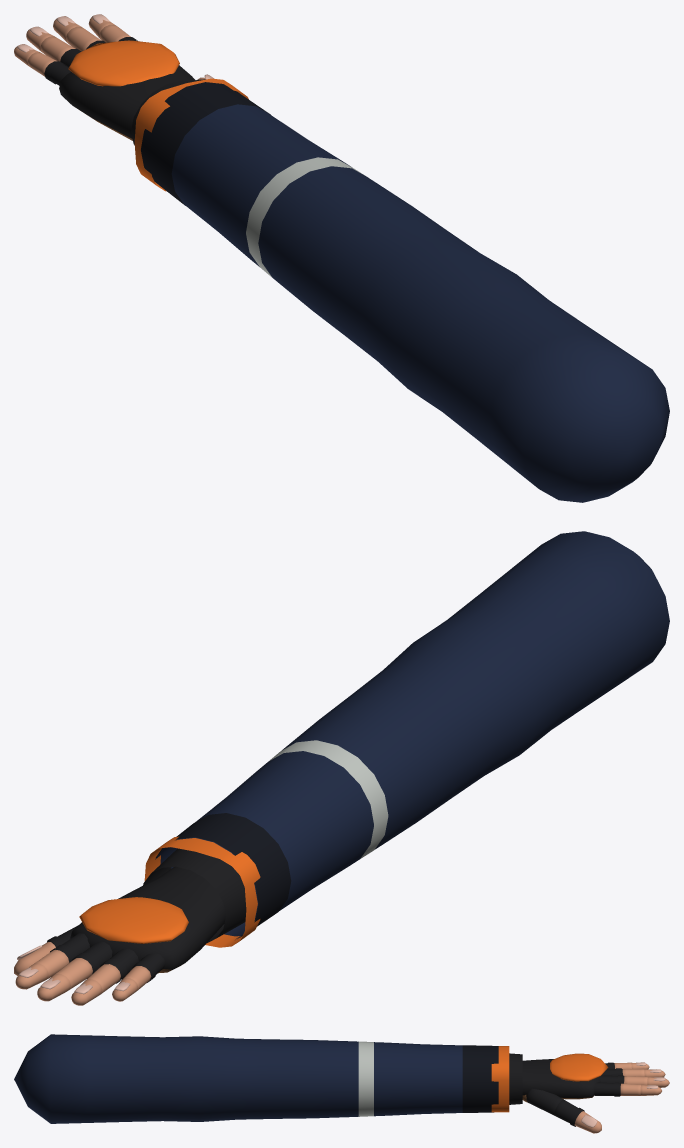
The model's file is FP_Hand_L.glb.
3 renders of one model, top to bottom at view 1: azimuth 30°, elevation 25°; view 2: azimuth 150°, elevation 25°; view 3: azimuth 270°, elevation 25°, orthographic. The views are drawn at different scales.
Visible parts, largest first — view 1: Arm, Arm_Rib, Hand_Pad, Hand, Arm_Stripe, Hand_Strap; view 2: Arm, Hand, Arm_Rib, Hand_Pad, Hand_Cuff, Hand_Strap, Arm_Stripe; view 3: Arm, Arm_Rib, Hand, Hand_Pad, Arm_Stripe, Hand_Strap, Hand_Cuff, T_1, T_2, F1_1, T_3, F1_2 (+3 smaller).
Part boxes in pixels (bbox=[...]): Arm: bbox=[171, 104, 669, 502]; Arm_Rib: bbox=[141, 82, 270, 205]; Hand_Pad: bbox=[68, 40, 179, 86]; Hand: bbox=[59, 65, 195, 140]; Arm_Stripe: bbox=[246, 157, 364, 277]; Hand_Strap: bbox=[134, 78, 248, 191]; Arm: bbox=[155, 531, 669, 939]; Hand: bbox=[70, 866, 225, 973]; Arm_Rib: bbox=[156, 813, 291, 938]; Hand_Pad: bbox=[79, 897, 188, 943]; Hand_Cuff: bbox=[143, 848, 246, 943]; Hand_Strap: bbox=[144, 836, 260, 947]; Arm_Stripe: bbox=[268, 740, 388, 858]; Arm: bbox=[14, 1034, 462, 1123]; Arm_Rib: bbox=[462, 1045, 498, 1112]; Hand: bbox=[522, 1059, 601, 1099]; Hand_Pad: bbox=[550, 1053, 608, 1081]; Arm_Stripe: bbox=[358, 1041, 373, 1116]; Hand_Strap: bbox=[491, 1046, 509, 1112]; Hand_Cuff: bbox=[509, 1053, 522, 1104]; T_1: bbox=[526, 1088, 563, 1115]; T_2: bbox=[554, 1099, 582, 1125]; F1_1: bbox=[594, 1082, 620, 1095]; T_3: bbox=[574, 1111, 601, 1133]; F1_2: bbox=[620, 1083, 640, 1095].
Size of the model in its own units: 0.1463 by 0.1087 by 0.8202.
